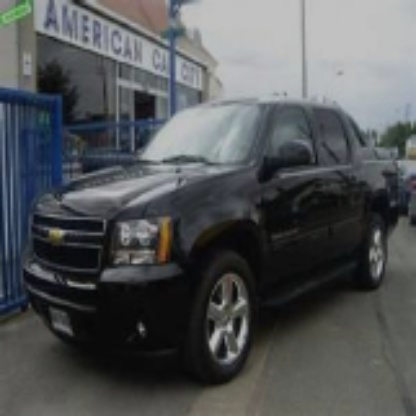Vehicle: (23, 100, 396, 381)
